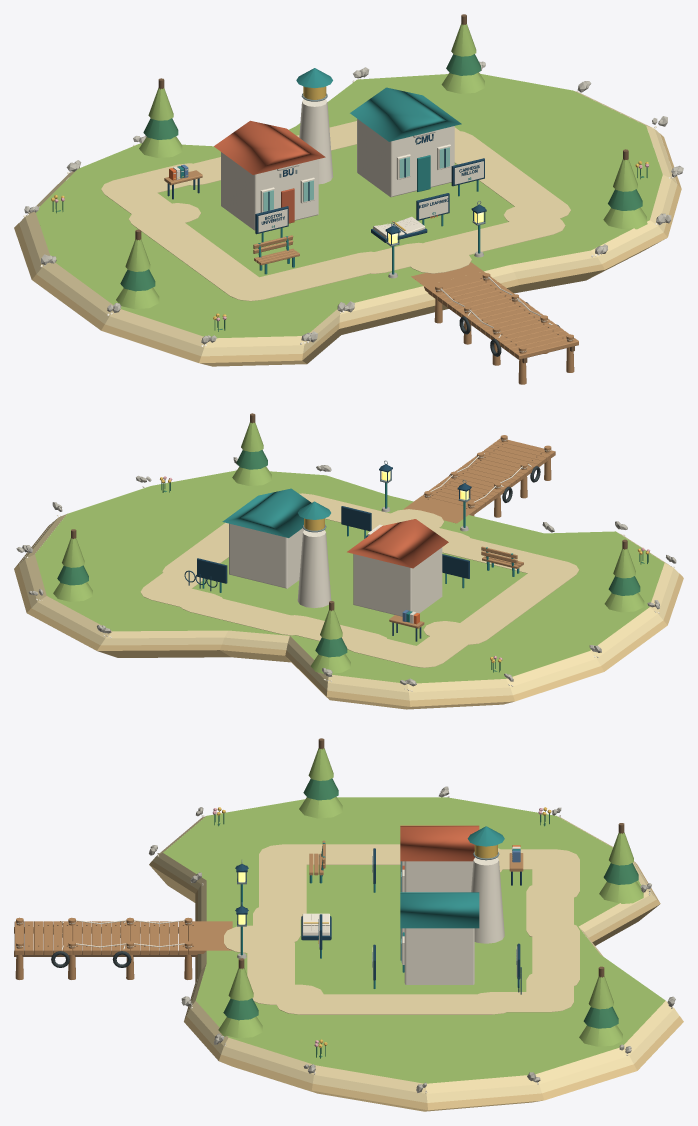
Rendered from learning.glb.
3 renders of one model, top to bottom at view 1: azimuth 30°, elevation 25°; view 2: azimuth 150°, elevation 25°; view 3: azimuth 270°, elevation 25°, orthographic. The views are drawn at different scales.
Parts seen in each view (by area): view 1: static_grass, static_sand, static_ivory, static_wood, static_sandEdge, occluder_learning_CMU_roof_teal, occluder_learning_BU_roof_terracotta, static_stone, static_teal, occluder_learning_tree_16_grass, occluder_learning_tree_8_grass, occluder_learning_tree_4_grass (+7 smaller); view 2: static_grass, static_sand, static_ivory, static_sandEdge, static_wood, occluder_learning_BU_roof_terracotta, occluder_learning_CMU_roof_teal, static_stone, occluder_learning_tree_4_grass, occluder_learning_tree_12_grass, occluder_learning_tree_16_grass, occluder_learning_tree_8_grass (+9 smaller); view 3: static_grass, static_sand, static_ivory, static_wood, static_sandEdge, occluder_learning_CMU_roof_teal, occluder_learning_BU_roof_terracotta, occluder_learning_tree_8_grass, occluder_learning_tree_16_grass, occluder_learning_tree_4_grass, occluder_learning_tree_12_grass, static_stone (+6 smaller).
Part boxes in pixels (bbox=[...]): static_grass: bbox=[36, 73, 662, 338]; static_sand: bbox=[19, 91, 677, 356]; static_ivory: bbox=[23, 72, 673, 352]; static_wood: bbox=[164, 170, 578, 384]; static_sandEdge: bbox=[14, 133, 681, 366]; occluder_learning_CMU_roof_teal: bbox=[350, 87, 461, 141]; occluder_learning_BU_roof_terracotta: bbox=[214, 120, 325, 174]; static_stone: bbox=[24, 61, 683, 344]; static_teal: bbox=[177, 68, 480, 274]; occluder_learning_tree_16_grass: bbox=[603, 159, 647, 229]; occluder_learning_tree_8_grass: bbox=[139, 88, 182, 157]; occluder_learning_tree_4_grass: bbox=[116, 239, 159, 309]; static_grass: bbox=[35, 470, 664, 683]; static_sand: bbox=[19, 493, 679, 700]; static_ivory: bbox=[24, 439, 674, 691]; static_sandEdge: bbox=[14, 522, 683, 709]; static_wood: bbox=[389, 435, 555, 628]; occluder_learning_BU_roof_terracotta: bbox=[347, 519, 448, 568]; occluder_learning_CMU_roof_teal: bbox=[222, 488, 311, 537]; static_stone: bbox=[16, 457, 676, 686]; occluder_learning_tree_4_grass: bbox=[604, 548, 644, 612]; occluder_learning_tree_12_grass: bbox=[53, 538, 92, 601]; occluder_learning_tree_16_grass: bbox=[232, 422, 271, 485]; occluder_learning_tree_8_grass: bbox=[311, 609, 350, 673]; static_grass: bbox=[163, 797, 665, 1083]; static_sand: bbox=[152, 816, 679, 1102]; static_ivory: bbox=[16, 796, 672, 1093]; static_wood: bbox=[14, 840, 523, 979]; static_sandEdge: bbox=[149, 861, 683, 1111]; occluder_learning_CMU_roof_teal: bbox=[400, 892, 479, 928]; occluder_learning_BU_roof_terracotta: bbox=[400, 825, 479, 861]; occluder_learning_tree_8_grass: bbox=[599, 832, 643, 903]; occluder_learning_tree_16_grass: bbox=[218, 968, 262, 1038]; occluder_learning_tree_4_grass: bbox=[299, 748, 342, 818]; occluder_learning_tree_12_grass: bbox=[579, 976, 622, 1046]; static_stone: bbox=[149, 786, 675, 1092].
Bounding box in the file's own units: 31 × 6.68 × 28.8.
